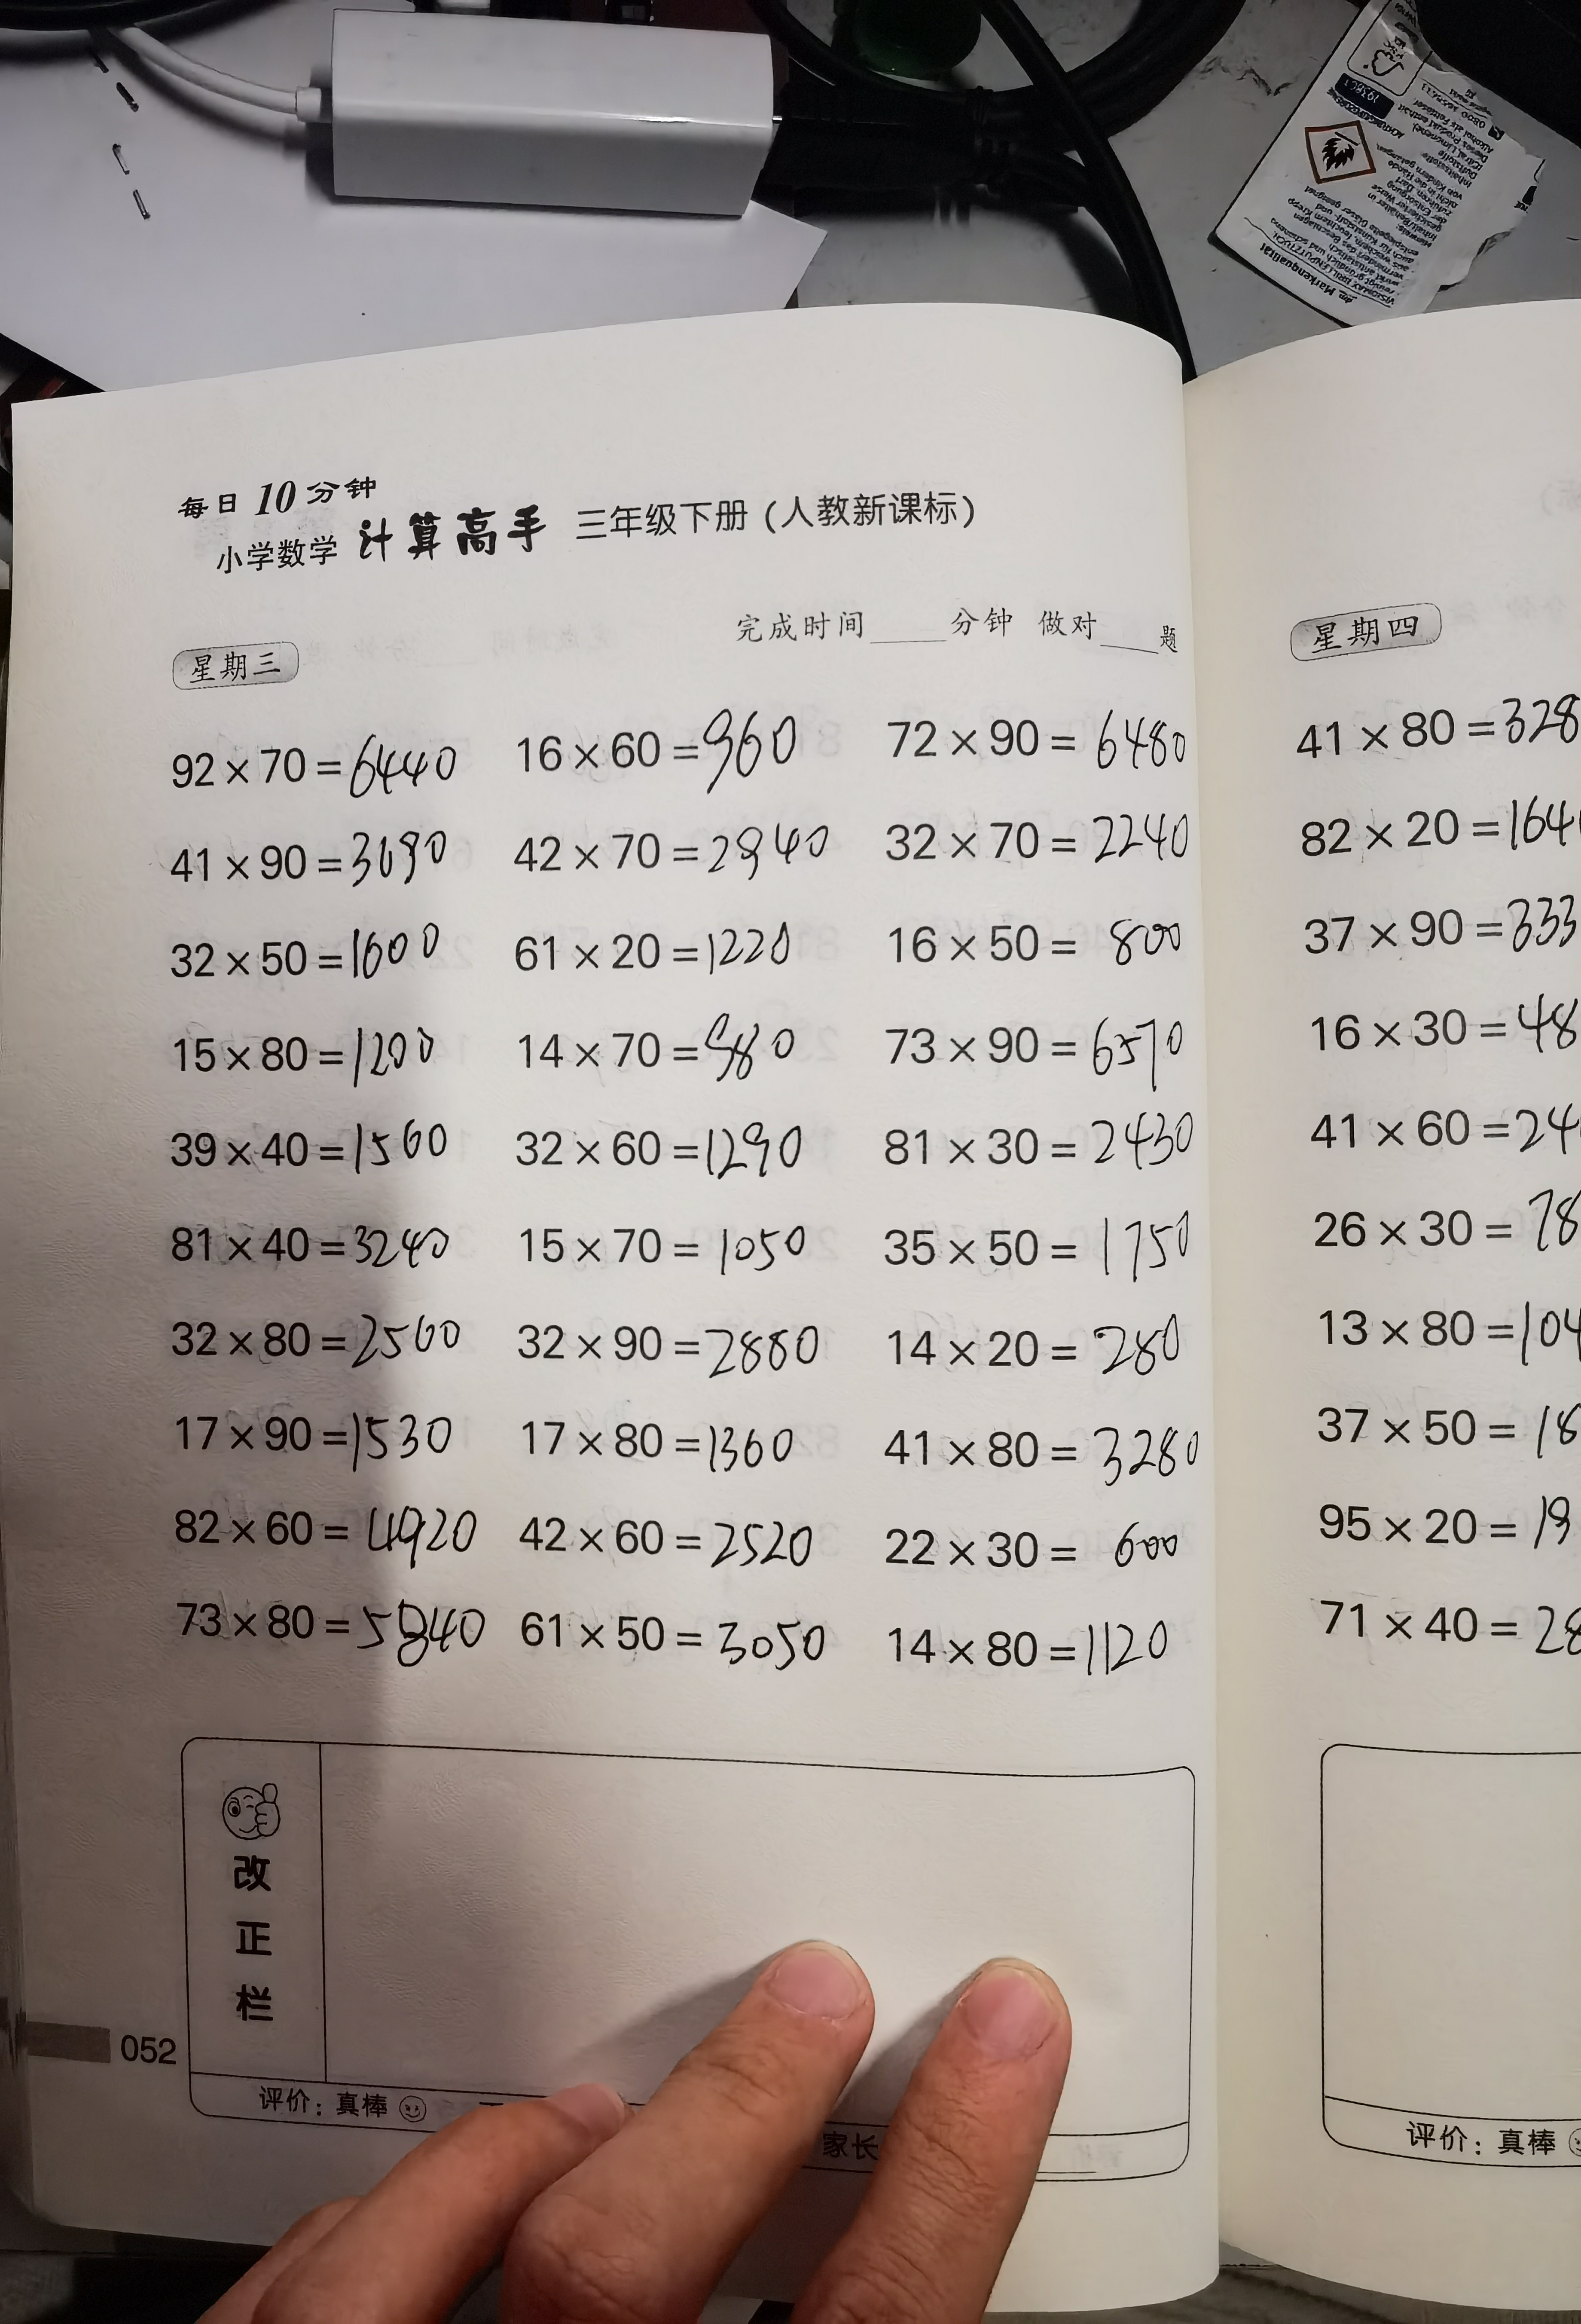equation: (139, 1572, 492, 1682), (127, 1481, 512, 1579), (132, 1191, 478, 1301), (503, 1491, 835, 1599), (512, 1304, 861, 1405), (870, 1608, 1226, 1705), (513, 1592, 835, 1698), (487, 1001, 833, 1098), (856, 1398, 1232, 1486), (132, 1008, 468, 1106), (139, 1293, 492, 1387), (889, 1292, 1233, 1387), (491, 801, 836, 895), (487, 902, 826, 993), (879, 1202, 1248, 1285), (519, 1401, 824, 1498), (870, 1103, 1256, 1179), (508, 1101, 847, 1188), (501, 1205, 813, 1299), (120, 919, 478, 1001), (104, 1105, 466, 1184), (879, 1511, 1230, 1592), (139, 1387, 462, 1475), (872, 805, 1235, 879), (489, 711, 806, 796), (162, 723, 483, 806), (886, 1011, 1258, 1078), (859, 711, 1219, 780), (154, 815, 478, 888), (880, 916, 1262, 976)
